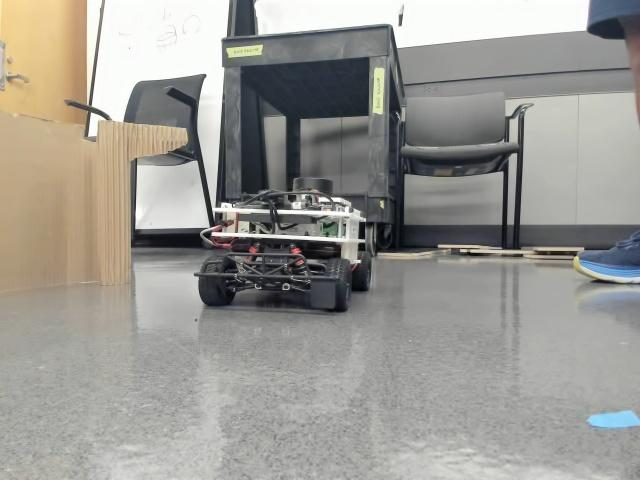Car: (196, 175, 371, 311)
